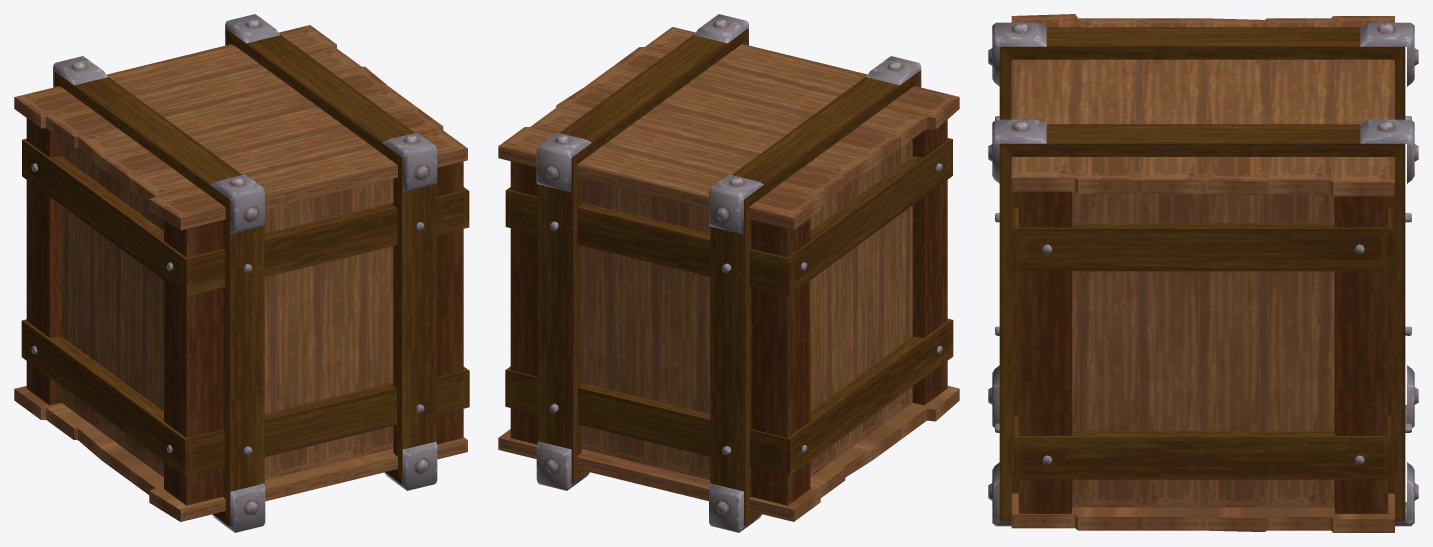
The model's file is Crate_Wooden.glb.
3 views of the same model, side by side, from view 1: azimuth 30°, elevation 25°; view 2: azimuth 150°, elevation 25°; view 3: azimuth 270°, elevation 25° (orthographic). The views are drawn at different scales.
Parts seen in each view (by area): view 1: Crate_Wooden; view 2: Crate_Wooden; view 3: Crate_Wooden.
Boxes of the visible parts, x1,y1,x2,y2 form: Crate_Wooden: (14, 14, 469, 532); Crate_Wooden: (498, 14, 959, 532); Crate_Wooden: (988, 14, 1418, 532).
Bounding box in the file's own units: 0.8423 × 0.9309 × 0.9083.
Materials: 2 (2 with a texture image).
